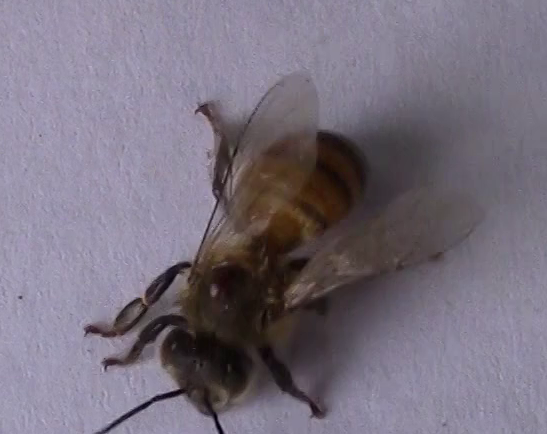Varroa destructor: (205, 265, 236, 304)
